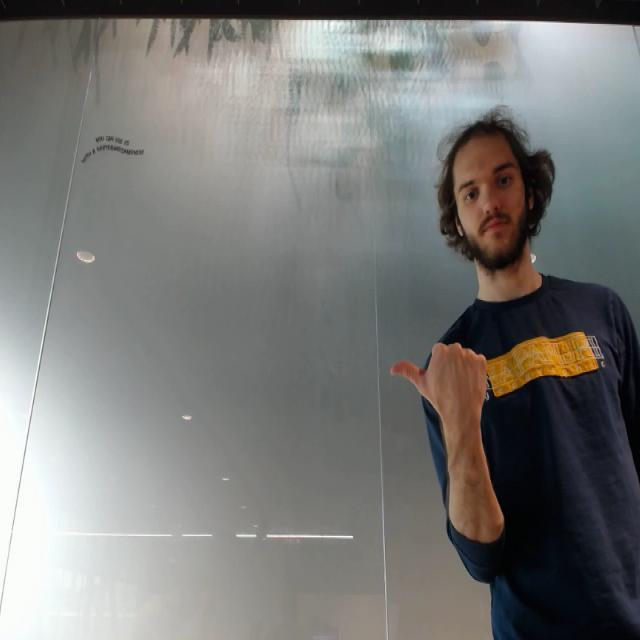left: (385, 338, 492, 426)
